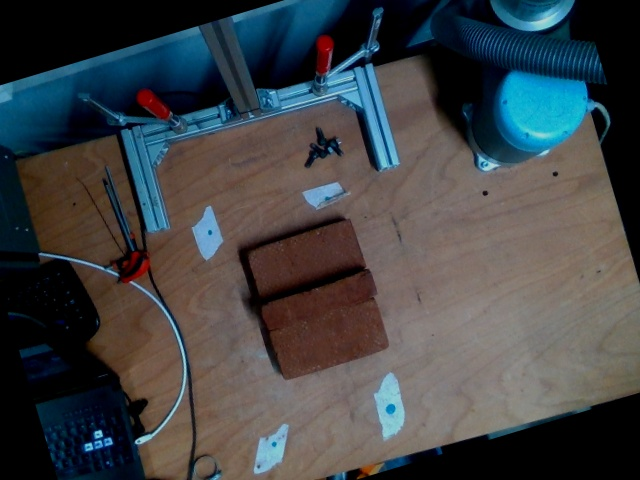brick: (243, 218, 364, 302), (269, 300, 389, 381)
brick-side: (260, 268, 381, 334)
